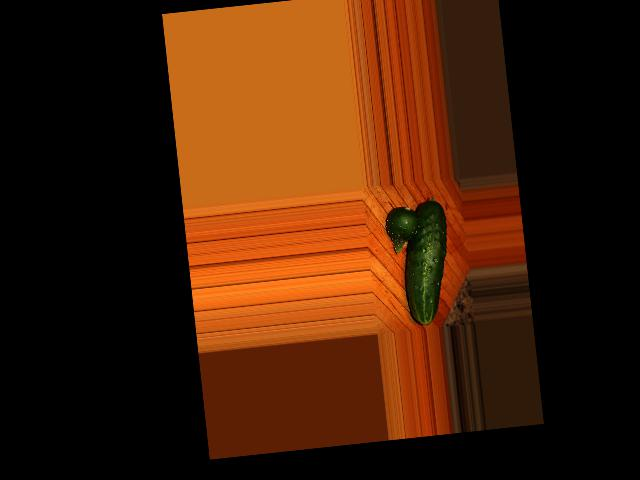cucumber: (396, 199, 456, 327)
